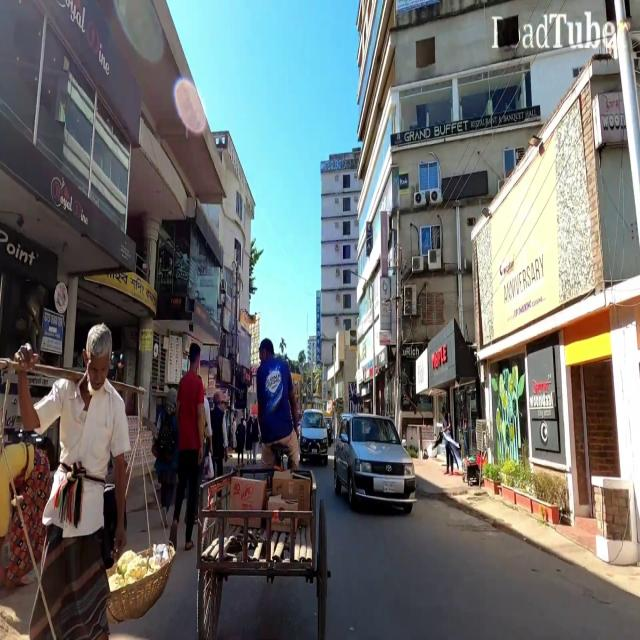silver: (334, 412, 421, 520), (300, 407, 329, 462)
